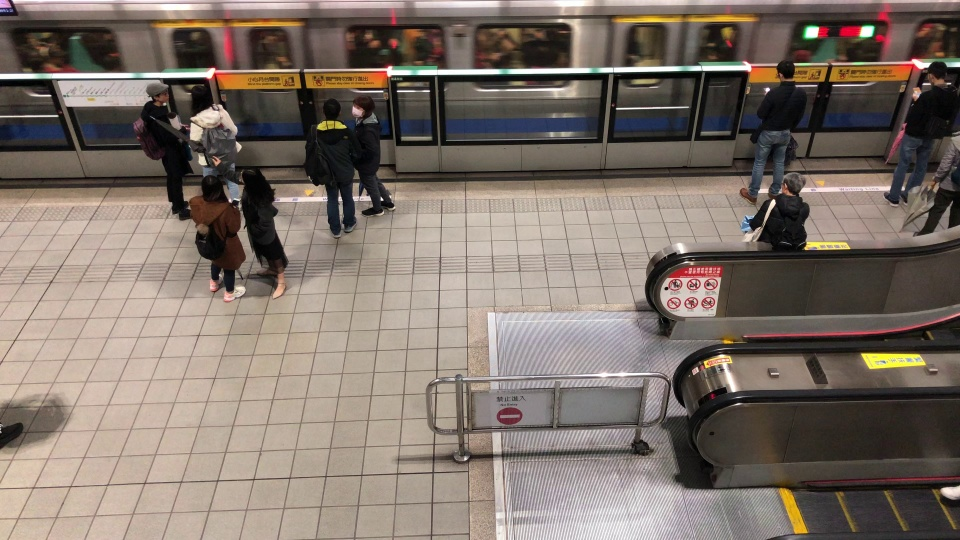person_head: (196, 175, 229, 207), (774, 172, 807, 202), (188, 85, 215, 118), (141, 82, 170, 108), (240, 168, 267, 193), (925, 61, 951, 86), (318, 97, 343, 122), (350, 96, 375, 121), (775, 59, 797, 83)
person_vbox: (873, 60, 960, 207), (729, 58, 808, 206), (125, 82, 198, 222), (296, 97, 361, 238), (178, 175, 247, 302), (181, 83, 245, 211), (231, 167, 291, 301), (343, 94, 400, 216), (908, 109, 960, 240), (729, 172, 813, 251)
